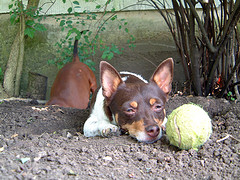tennis ball: (164, 102, 214, 151)
